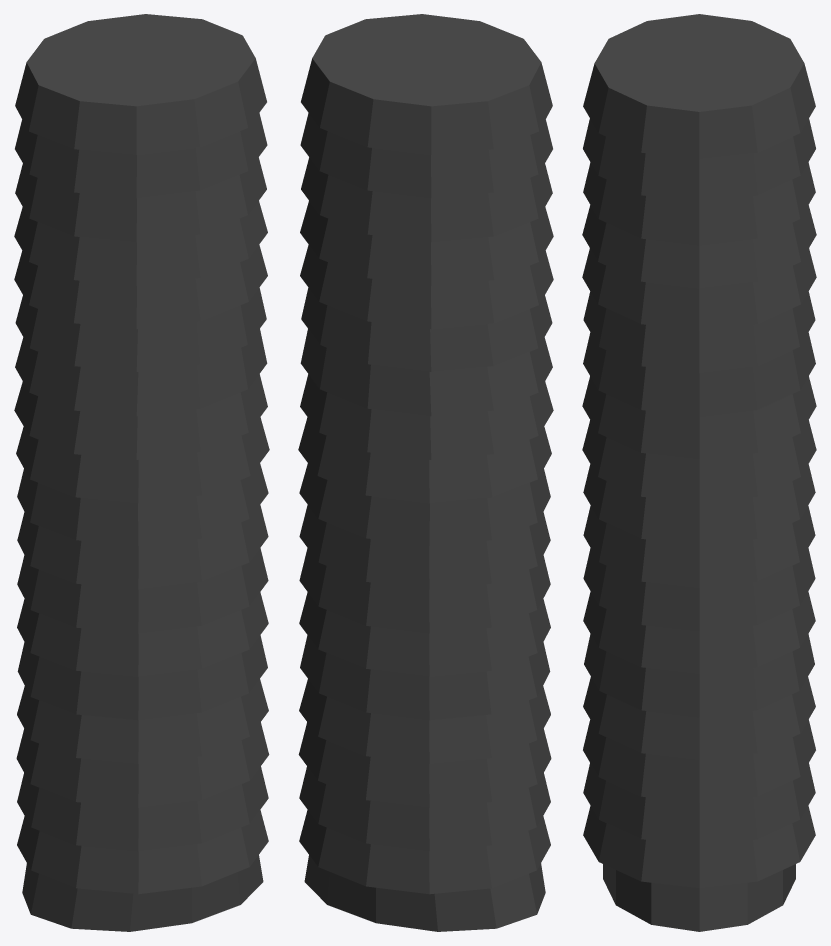
Rendered from Cuerpo.fbx.
The picture shows the model from 3 angles, left to right: view 1: azimuth 30°, elevation 25°; view 2: azimuth 150°, elevation 25°; view 3: azimuth 270°, elevation 25°; orthographic projection.
Parts seen in each view (by area): view 1: Cuerpo; view 2: Cuerpo; view 3: Cuerpo.
Boxes of the visible parts, x1,y1,x2,y2 form: Cuerpo: (14,14,269,931); Cuerpo: (298,14,553,931); Cuerpo: (582,14,816,931).
Size of the model in its own units: 74.6 by 262 by 68.37.
